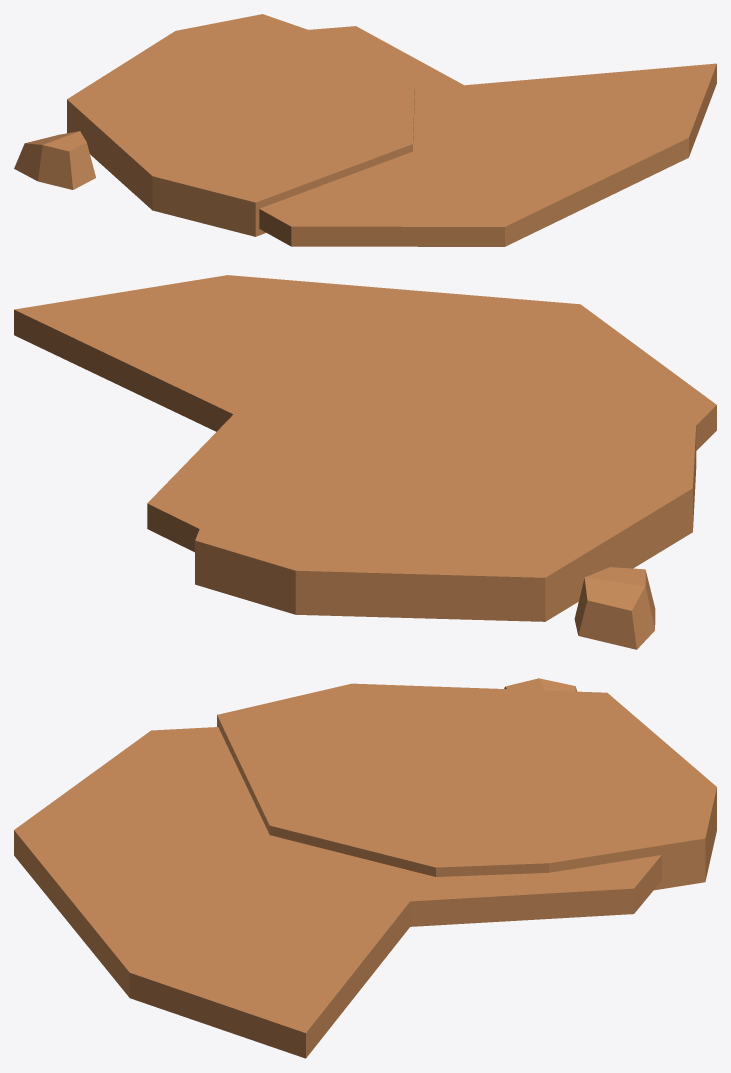
The model's file is SandRocks11_LOD1.fbx.
The picture shows the model from 3 angles, top to bottom: view 1: azimuth 30°, elevation 25°; view 2: azimuth 150°, elevation 25°; view 3: azimuth 270°, elevation 25°; orthographic projection. The views are drawn at different scales.
Visible parts, largest first — view 1: Plane.167; view 2: Plane.167; view 3: Plane.167.
Part boxes in pixels (box(x1,y1,x2,y2)): Plane.167: box(14, 14, 716, 246); Plane.167: box(14, 275, 716, 649); Plane.167: box(14, 678, 716, 1058).
Bounding box in the file's own units: 132 × 10.12 × 106.
